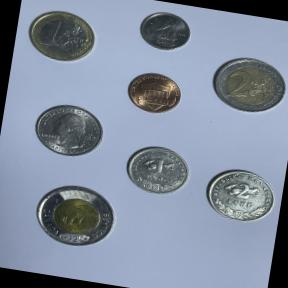coin: (25, 175, 124, 255), (204, 48, 288, 120), (198, 161, 282, 230), (19, 2, 104, 70), (24, 97, 110, 164), (116, 64, 190, 121), (133, 4, 197, 60)
